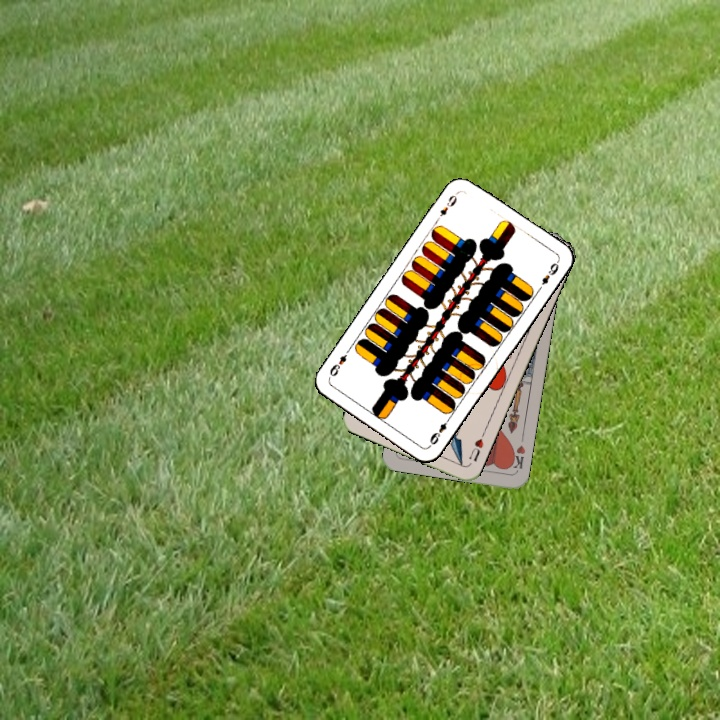E9: (432, 189, 460, 224), (426, 413, 453, 447)
HK: (506, 441, 528, 471)
HU: (465, 428, 487, 464)
